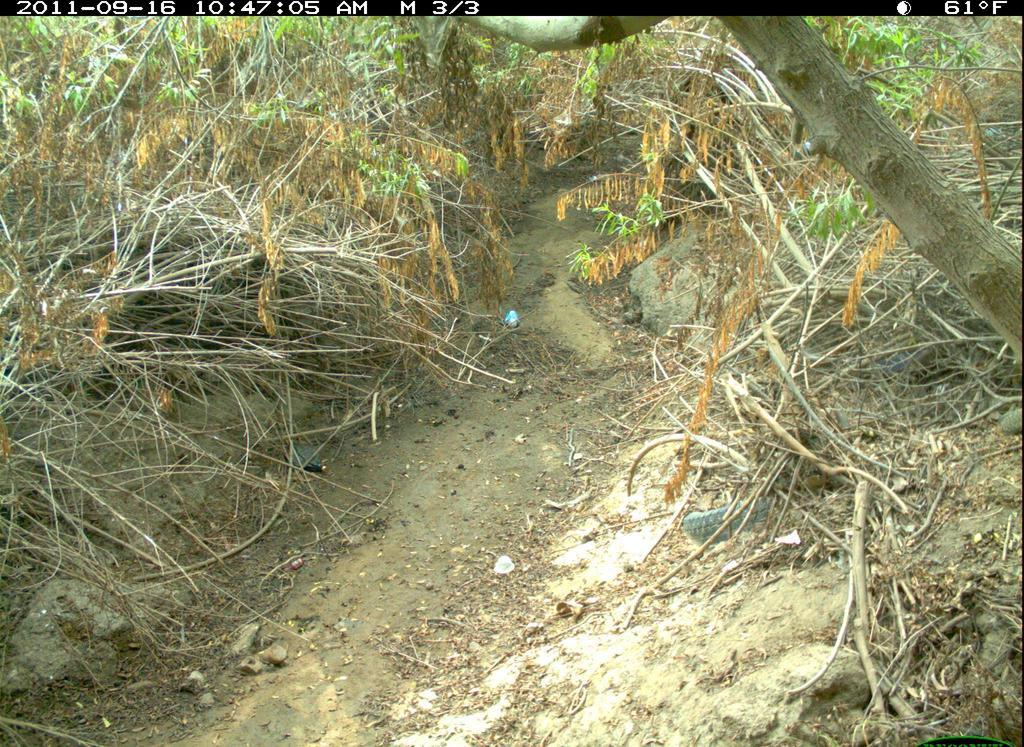squirrel: (994, 397, 1023, 445)
